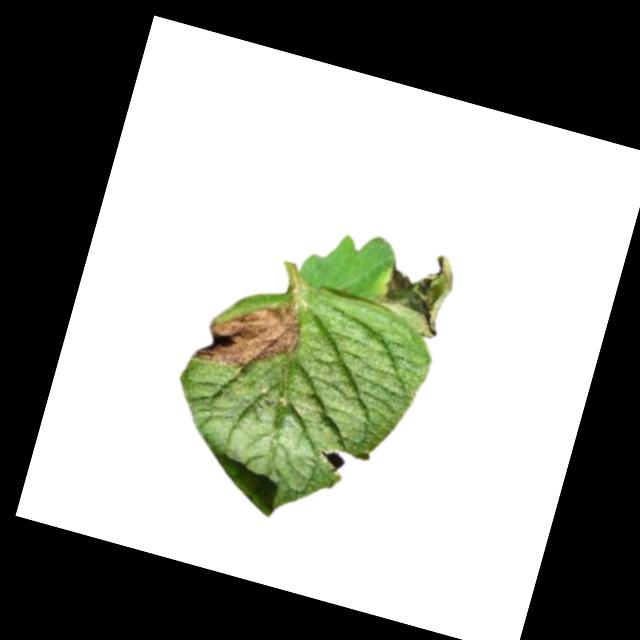Late_blight: (187, 276, 310, 385), (370, 243, 460, 341)
